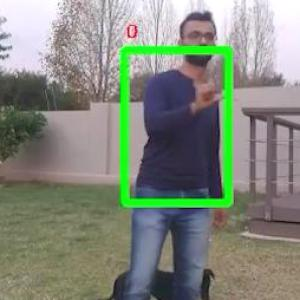land_hand: (184, 62, 226, 108)
